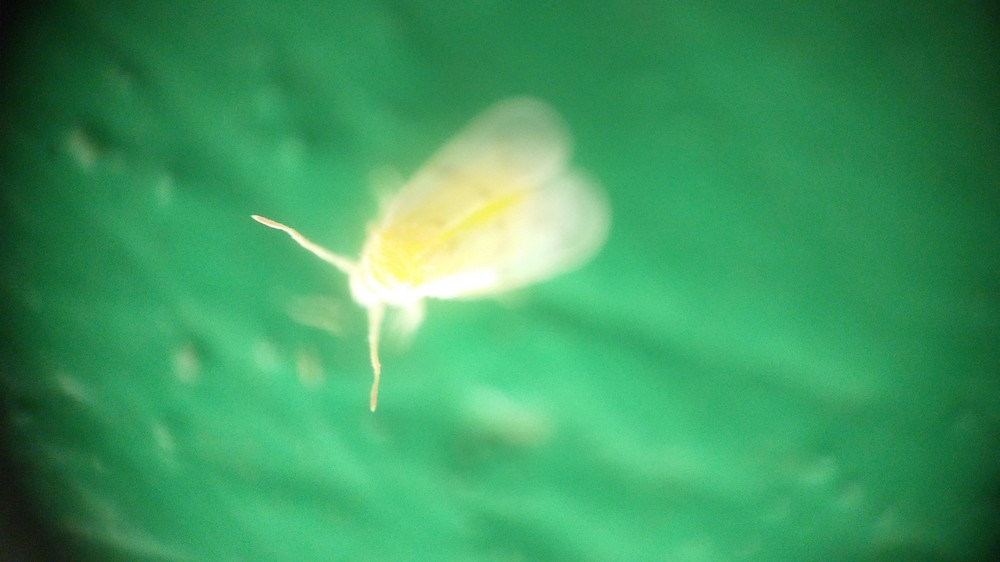Mosca Blanca: (244, 90, 626, 417)
